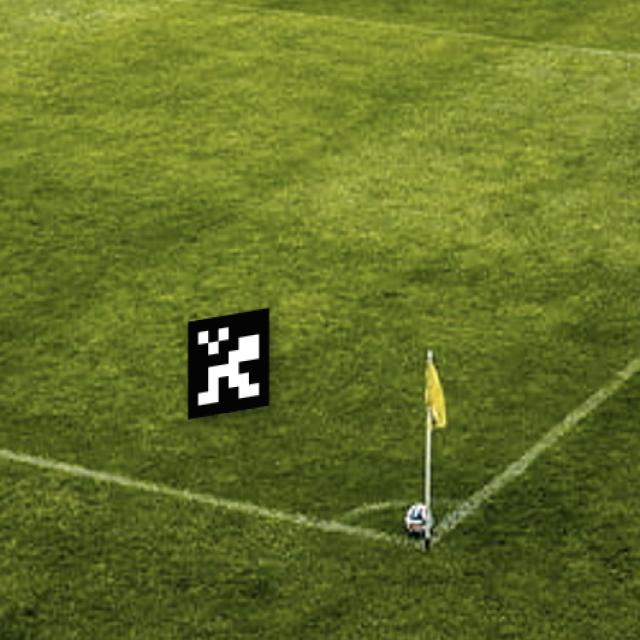marker: (173, 297, 290, 426)
